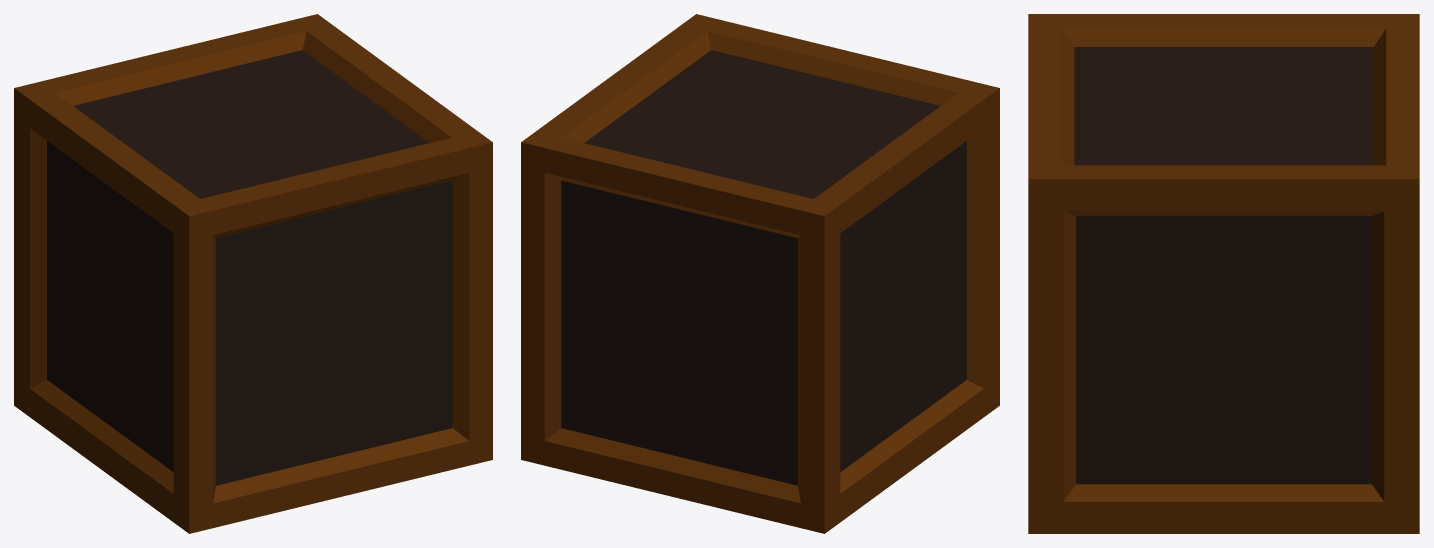
File: Crate.fbx
3 views of the same model, side by side, from view 1: azimuth 30°, elevation 25°; view 2: azimuth 150°, elevation 25°; view 3: azimuth 270°, elevation 25° (orthographic). The views are drawn at different scales.
Parts seen in each view (by area): view 1: Cube.009; view 2: Cube.009; view 3: Cube.009.
Boxes of the visible parts, x1,y1,x2,y2 form: Cube.009: [14, 14, 492, 533]; Cube.009: [521, 14, 999, 533]; Cube.009: [1028, 14, 1419, 533].
Bounding box in the file's own units: 200 × 200 × 200.
